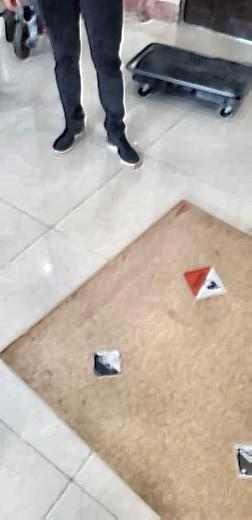corrosive: (94, 350, 122, 377), (234, 443, 252, 482)
spontaneously-combustible: (183, 267, 230, 301)
